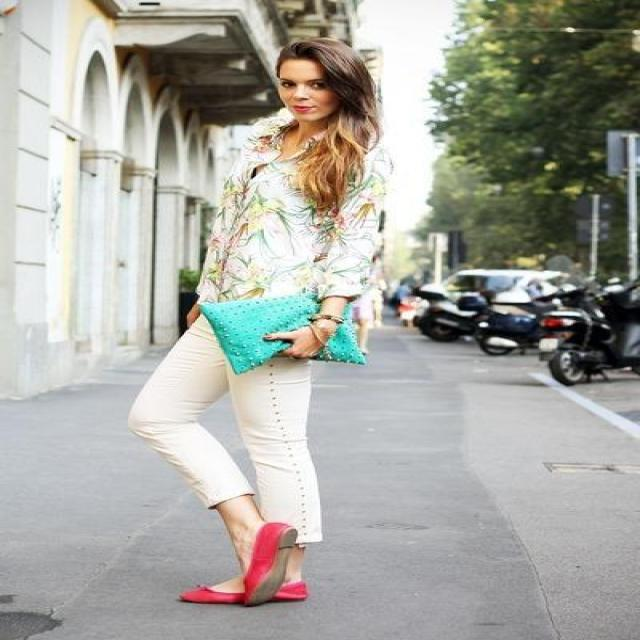bag: (211, 289, 363, 370)
pants: (128, 320, 320, 542)
shirt: (182, 108, 397, 351)
shoe: (178, 523, 306, 607)
